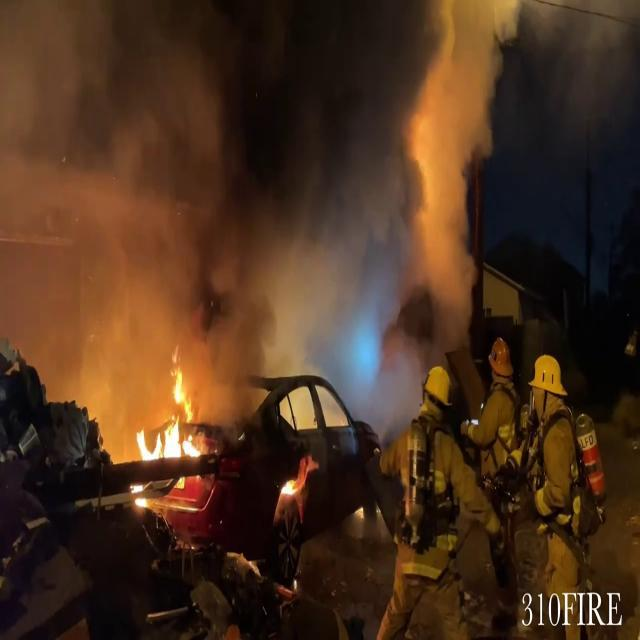Fire: (130, 368, 209, 470)
Smoke: (1, 0, 511, 402)
